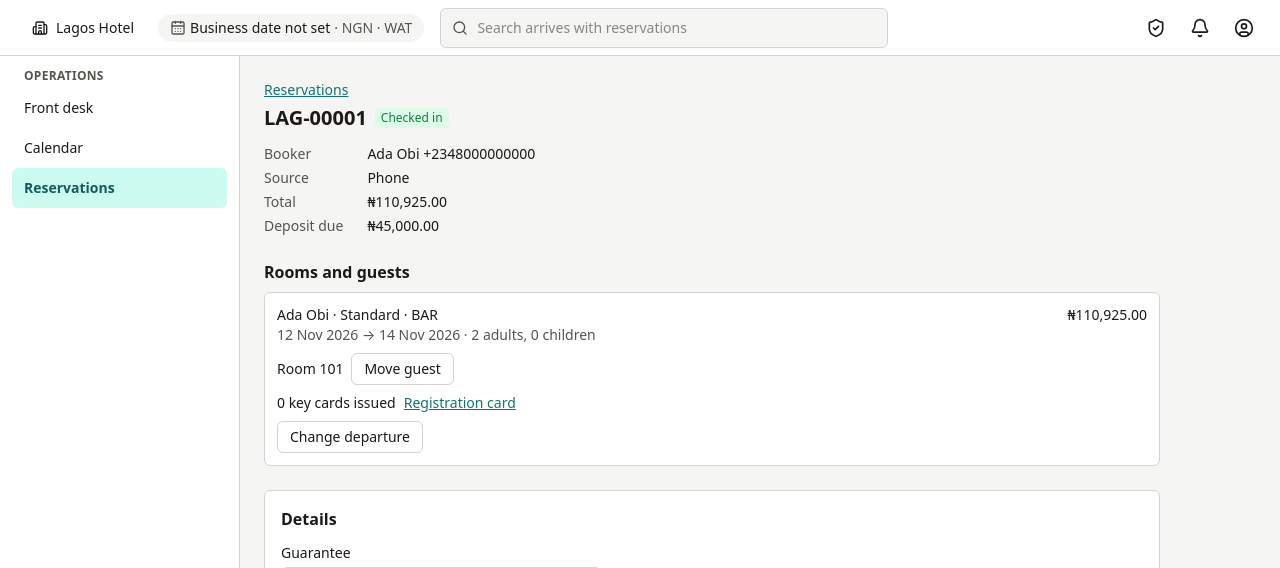
Rooms for a stay (M3-07, M3-11; T-050) › moves a checked-in guest with a reason
Expected: the text "Room 101" is shown, [277, 359, 343, 379]
Click the button "Move guest".
click(403, 369)  # box [351, 353, 454, 385]
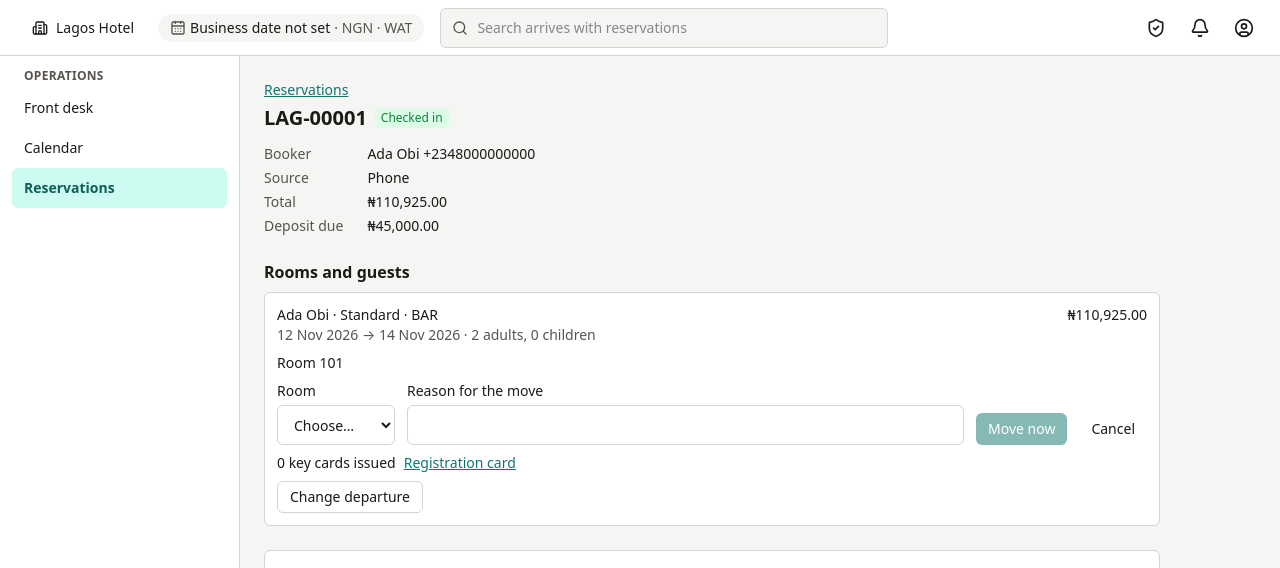
Select "102 · Clean" in the dropdown labelled "Room" at (336, 425), box [277, 405, 395, 445]
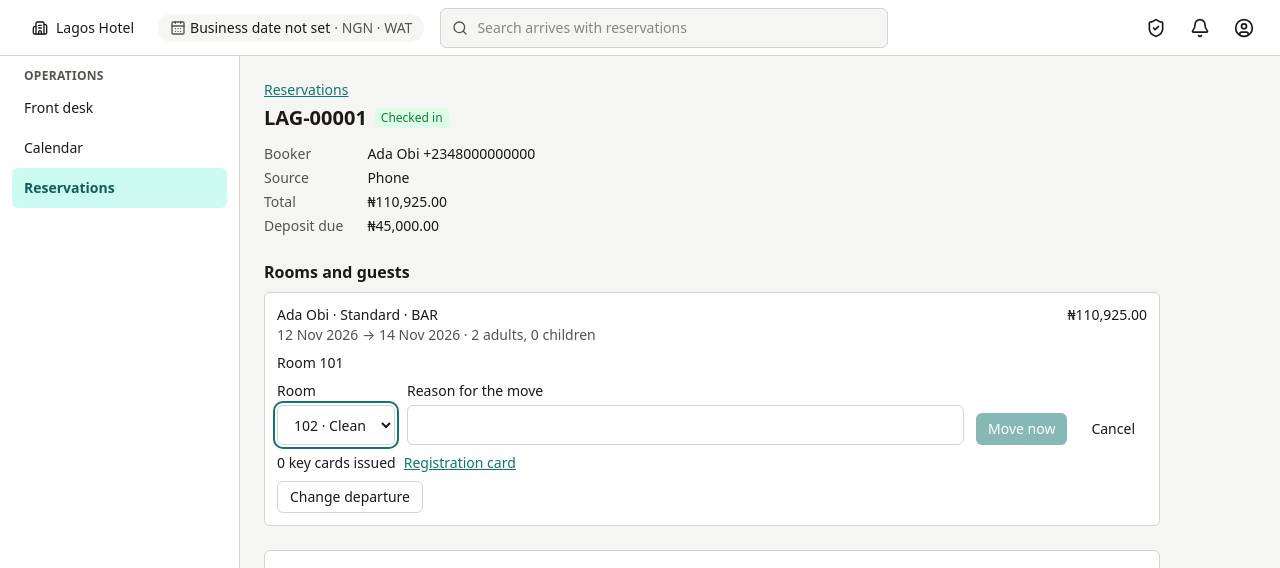
Type "Noisy air conditioner" into the field labelled "Reason for the move".
click(686, 425); type("Noisy air conditioner")  # box [407, 405, 964, 445]
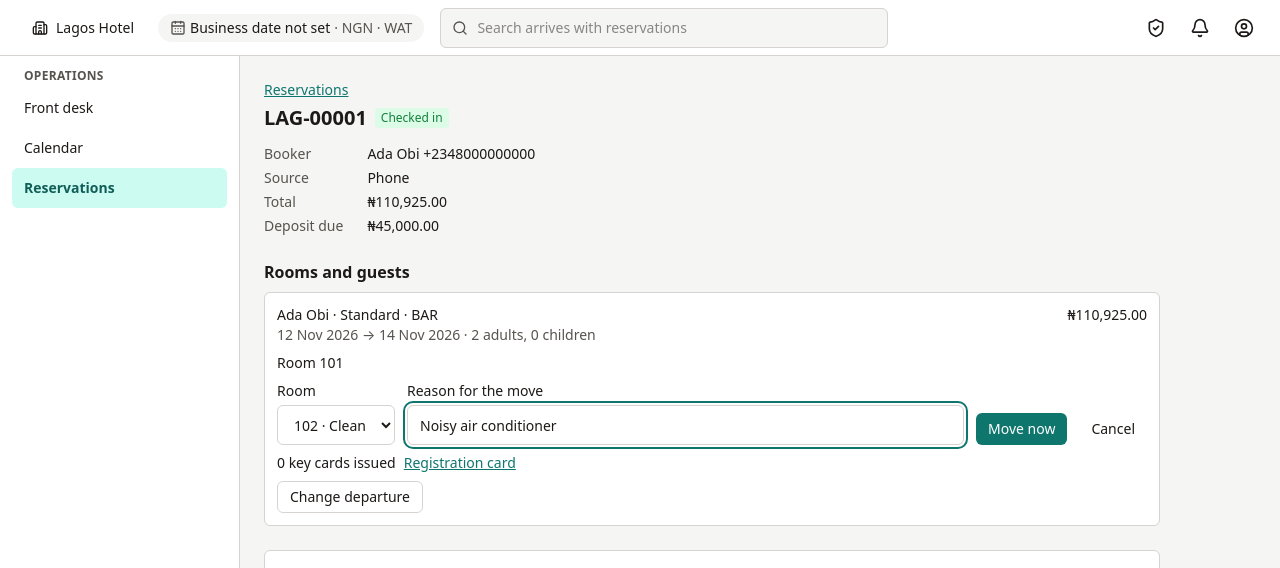
Click the button "Move now".
click(1022, 429)  # box [976, 413, 1067, 445]
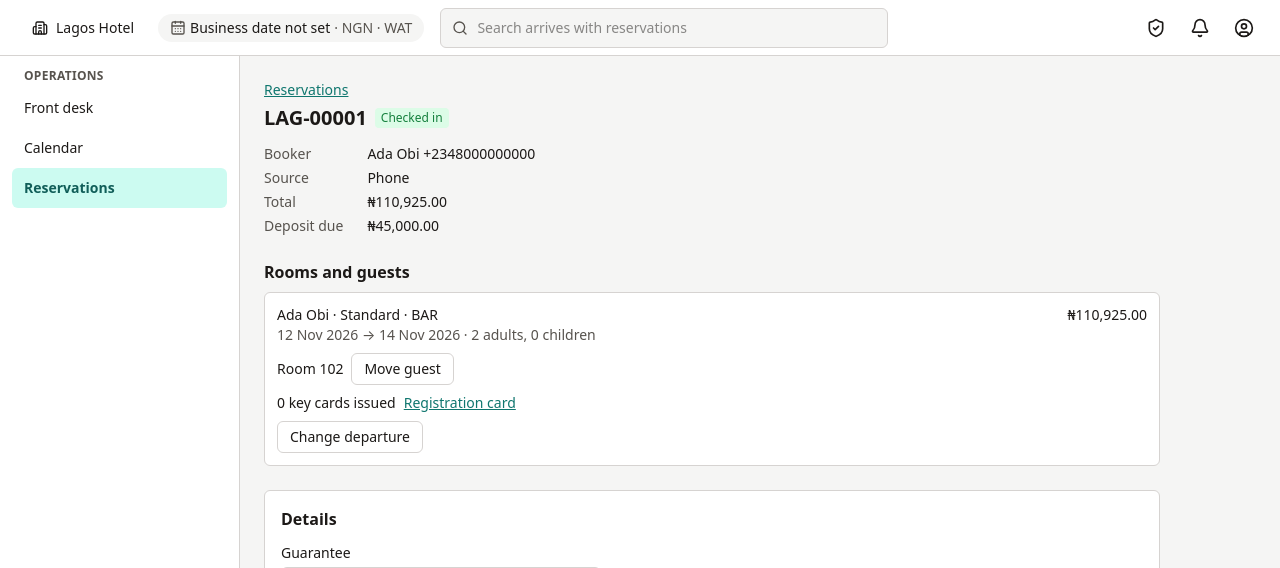
Now the text "Room 102" is shown, box [277, 359, 343, 379]
